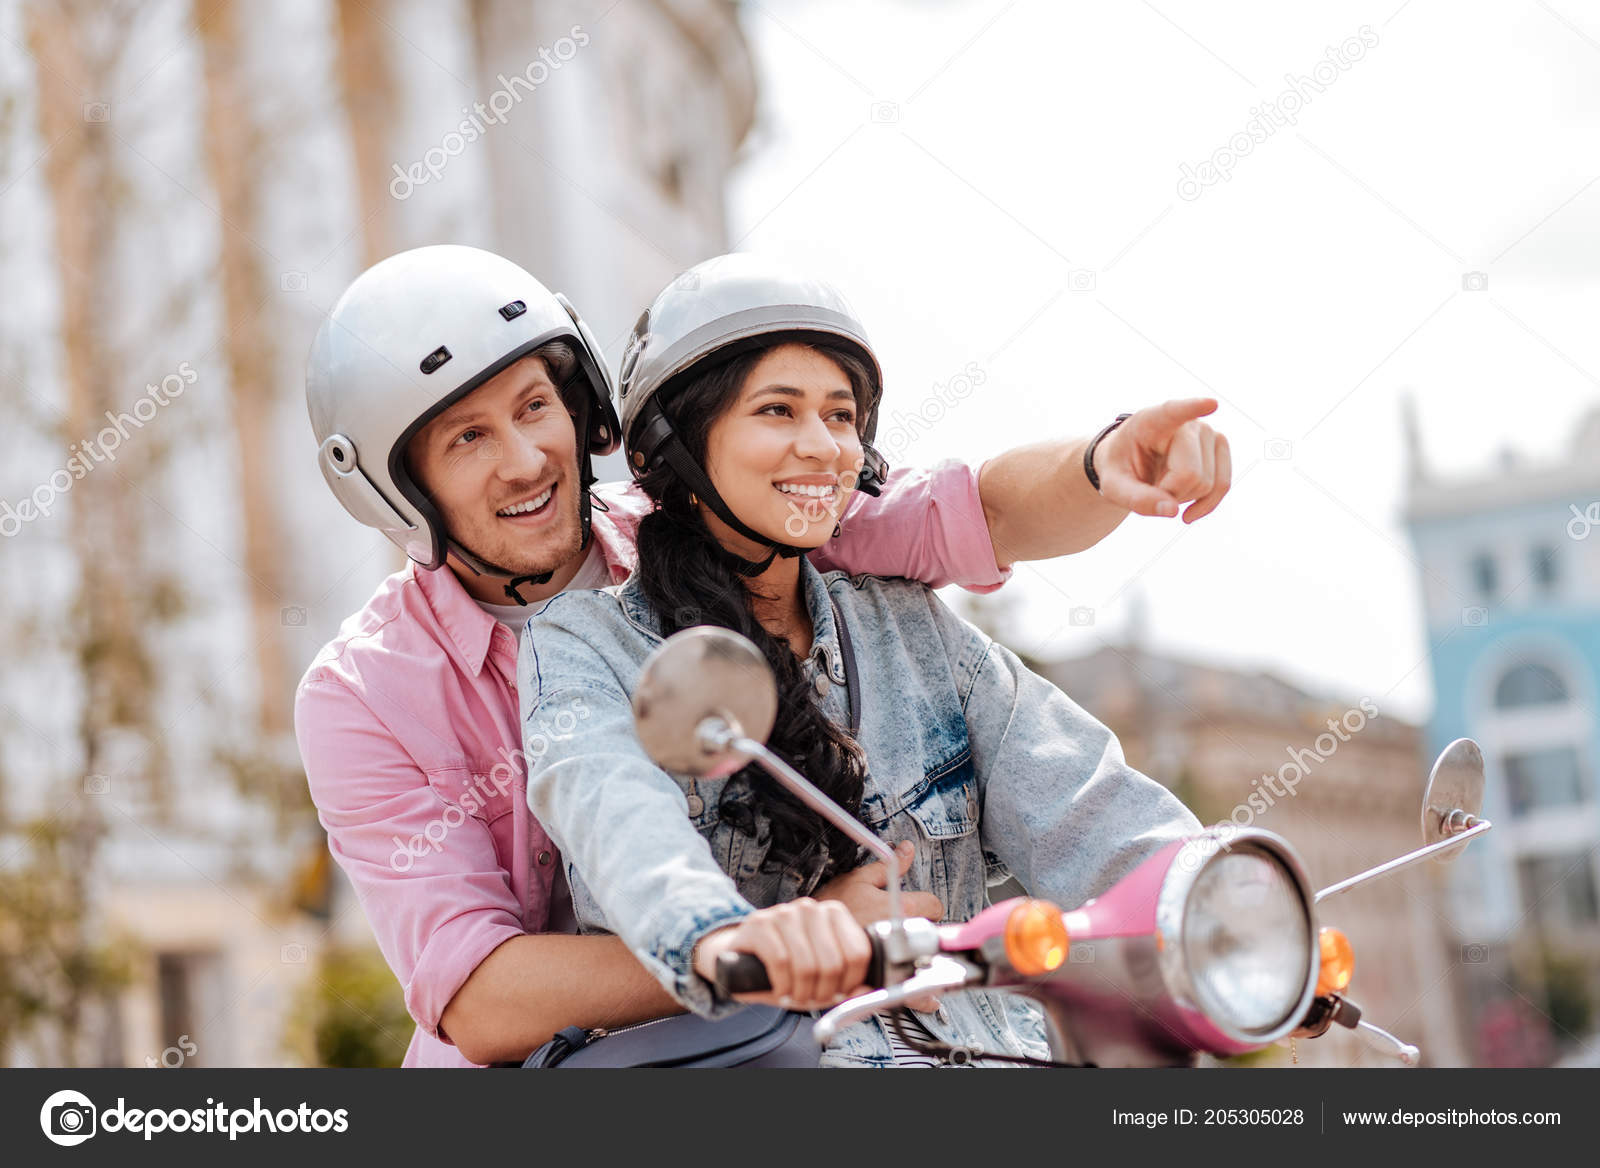helmet: (306, 244, 578, 440), (615, 251, 906, 413)
